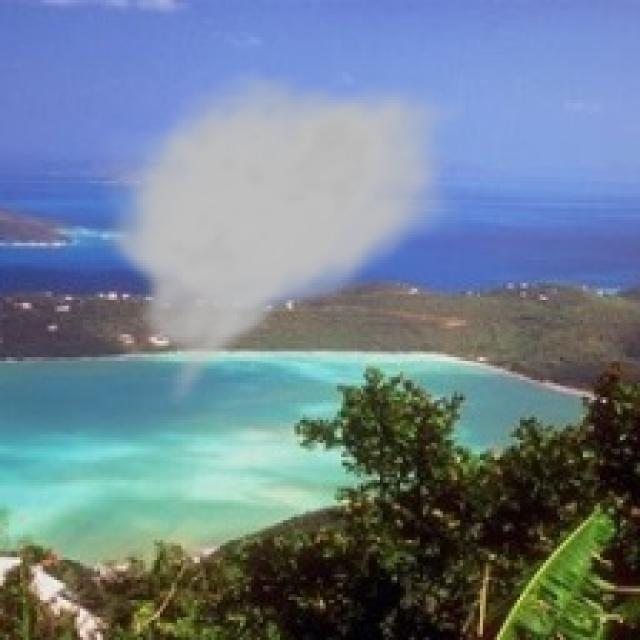Smoke: (94, 68, 469, 414)
